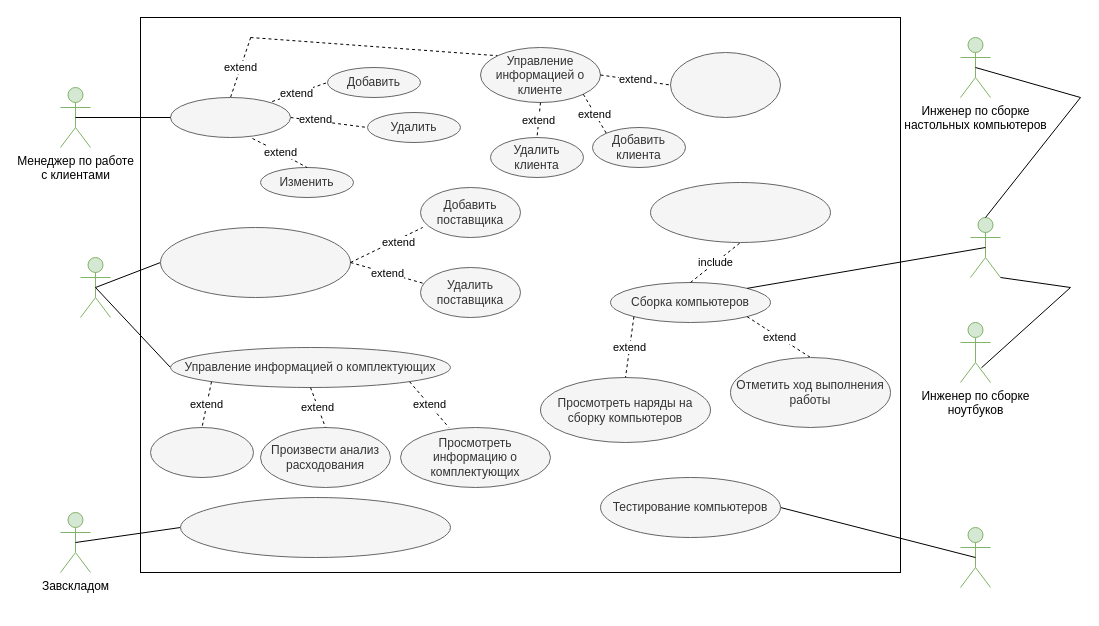
The diagram is 1099 pixels wide and 626 high, and some of its shapes have lost their labels. Each missing label, with the box of its shape:
Заказать: (150, 426, 254, 478)
Инженер по сборке: (970, 216, 1000, 278)
Инженер по тестированию: (960, 526, 990, 588)
Менеджер по снабжению: (80, 256, 110, 318)
Просмотреть информацию о клиенте: (670, 52, 780, 118)
Работа с заказом: (170, 96, 290, 138)
Требование необходимых комплектующих: (650, 182, 830, 242)
Управление информацией о поставщиках: (160, 226, 350, 298)
Учет поступления и выдачи комплектующих: (180, 496, 450, 558)
